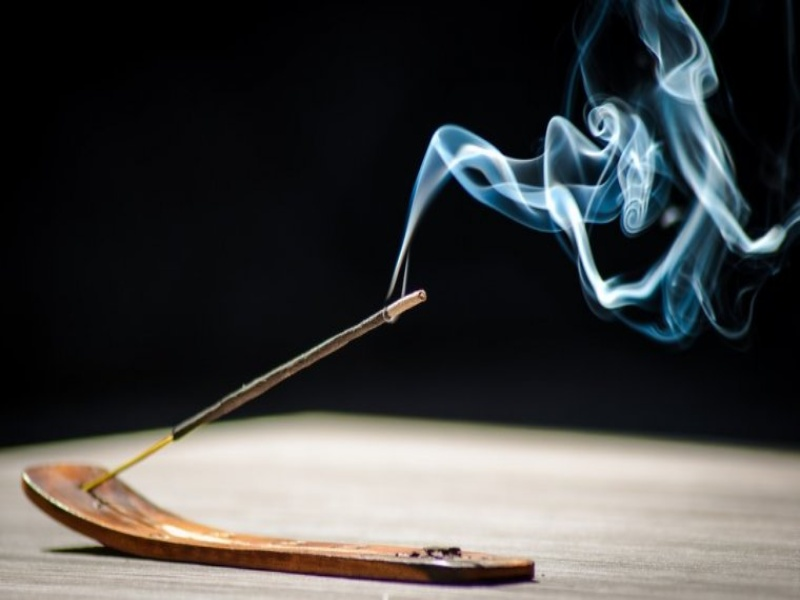smoke: (391, 1, 765, 344)
